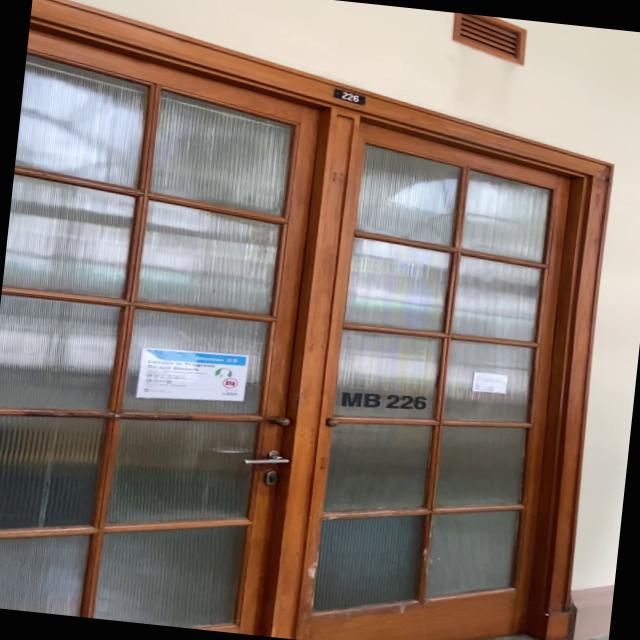room226: (328, 85, 367, 106)
room226Window: (335, 383, 430, 418)
